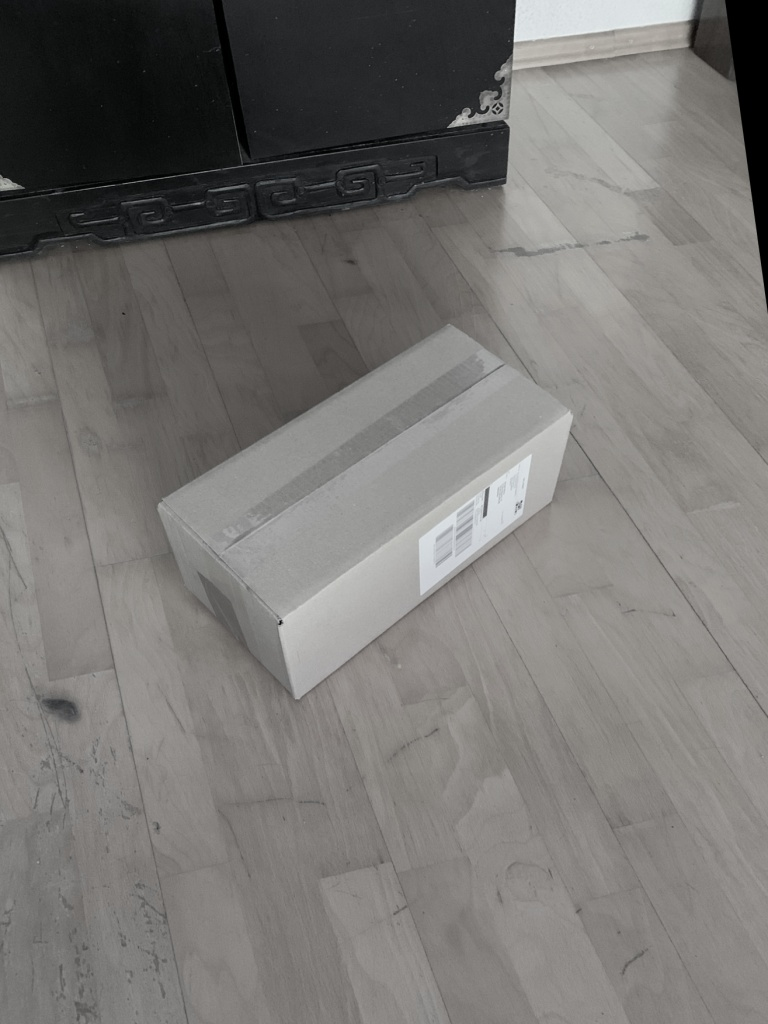good-parcel: (151, 318, 583, 709)
